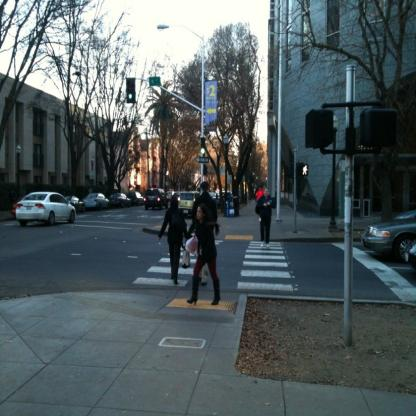Crosswalk: (233, 238, 296, 293)
Walk: (296, 162, 308, 176)
